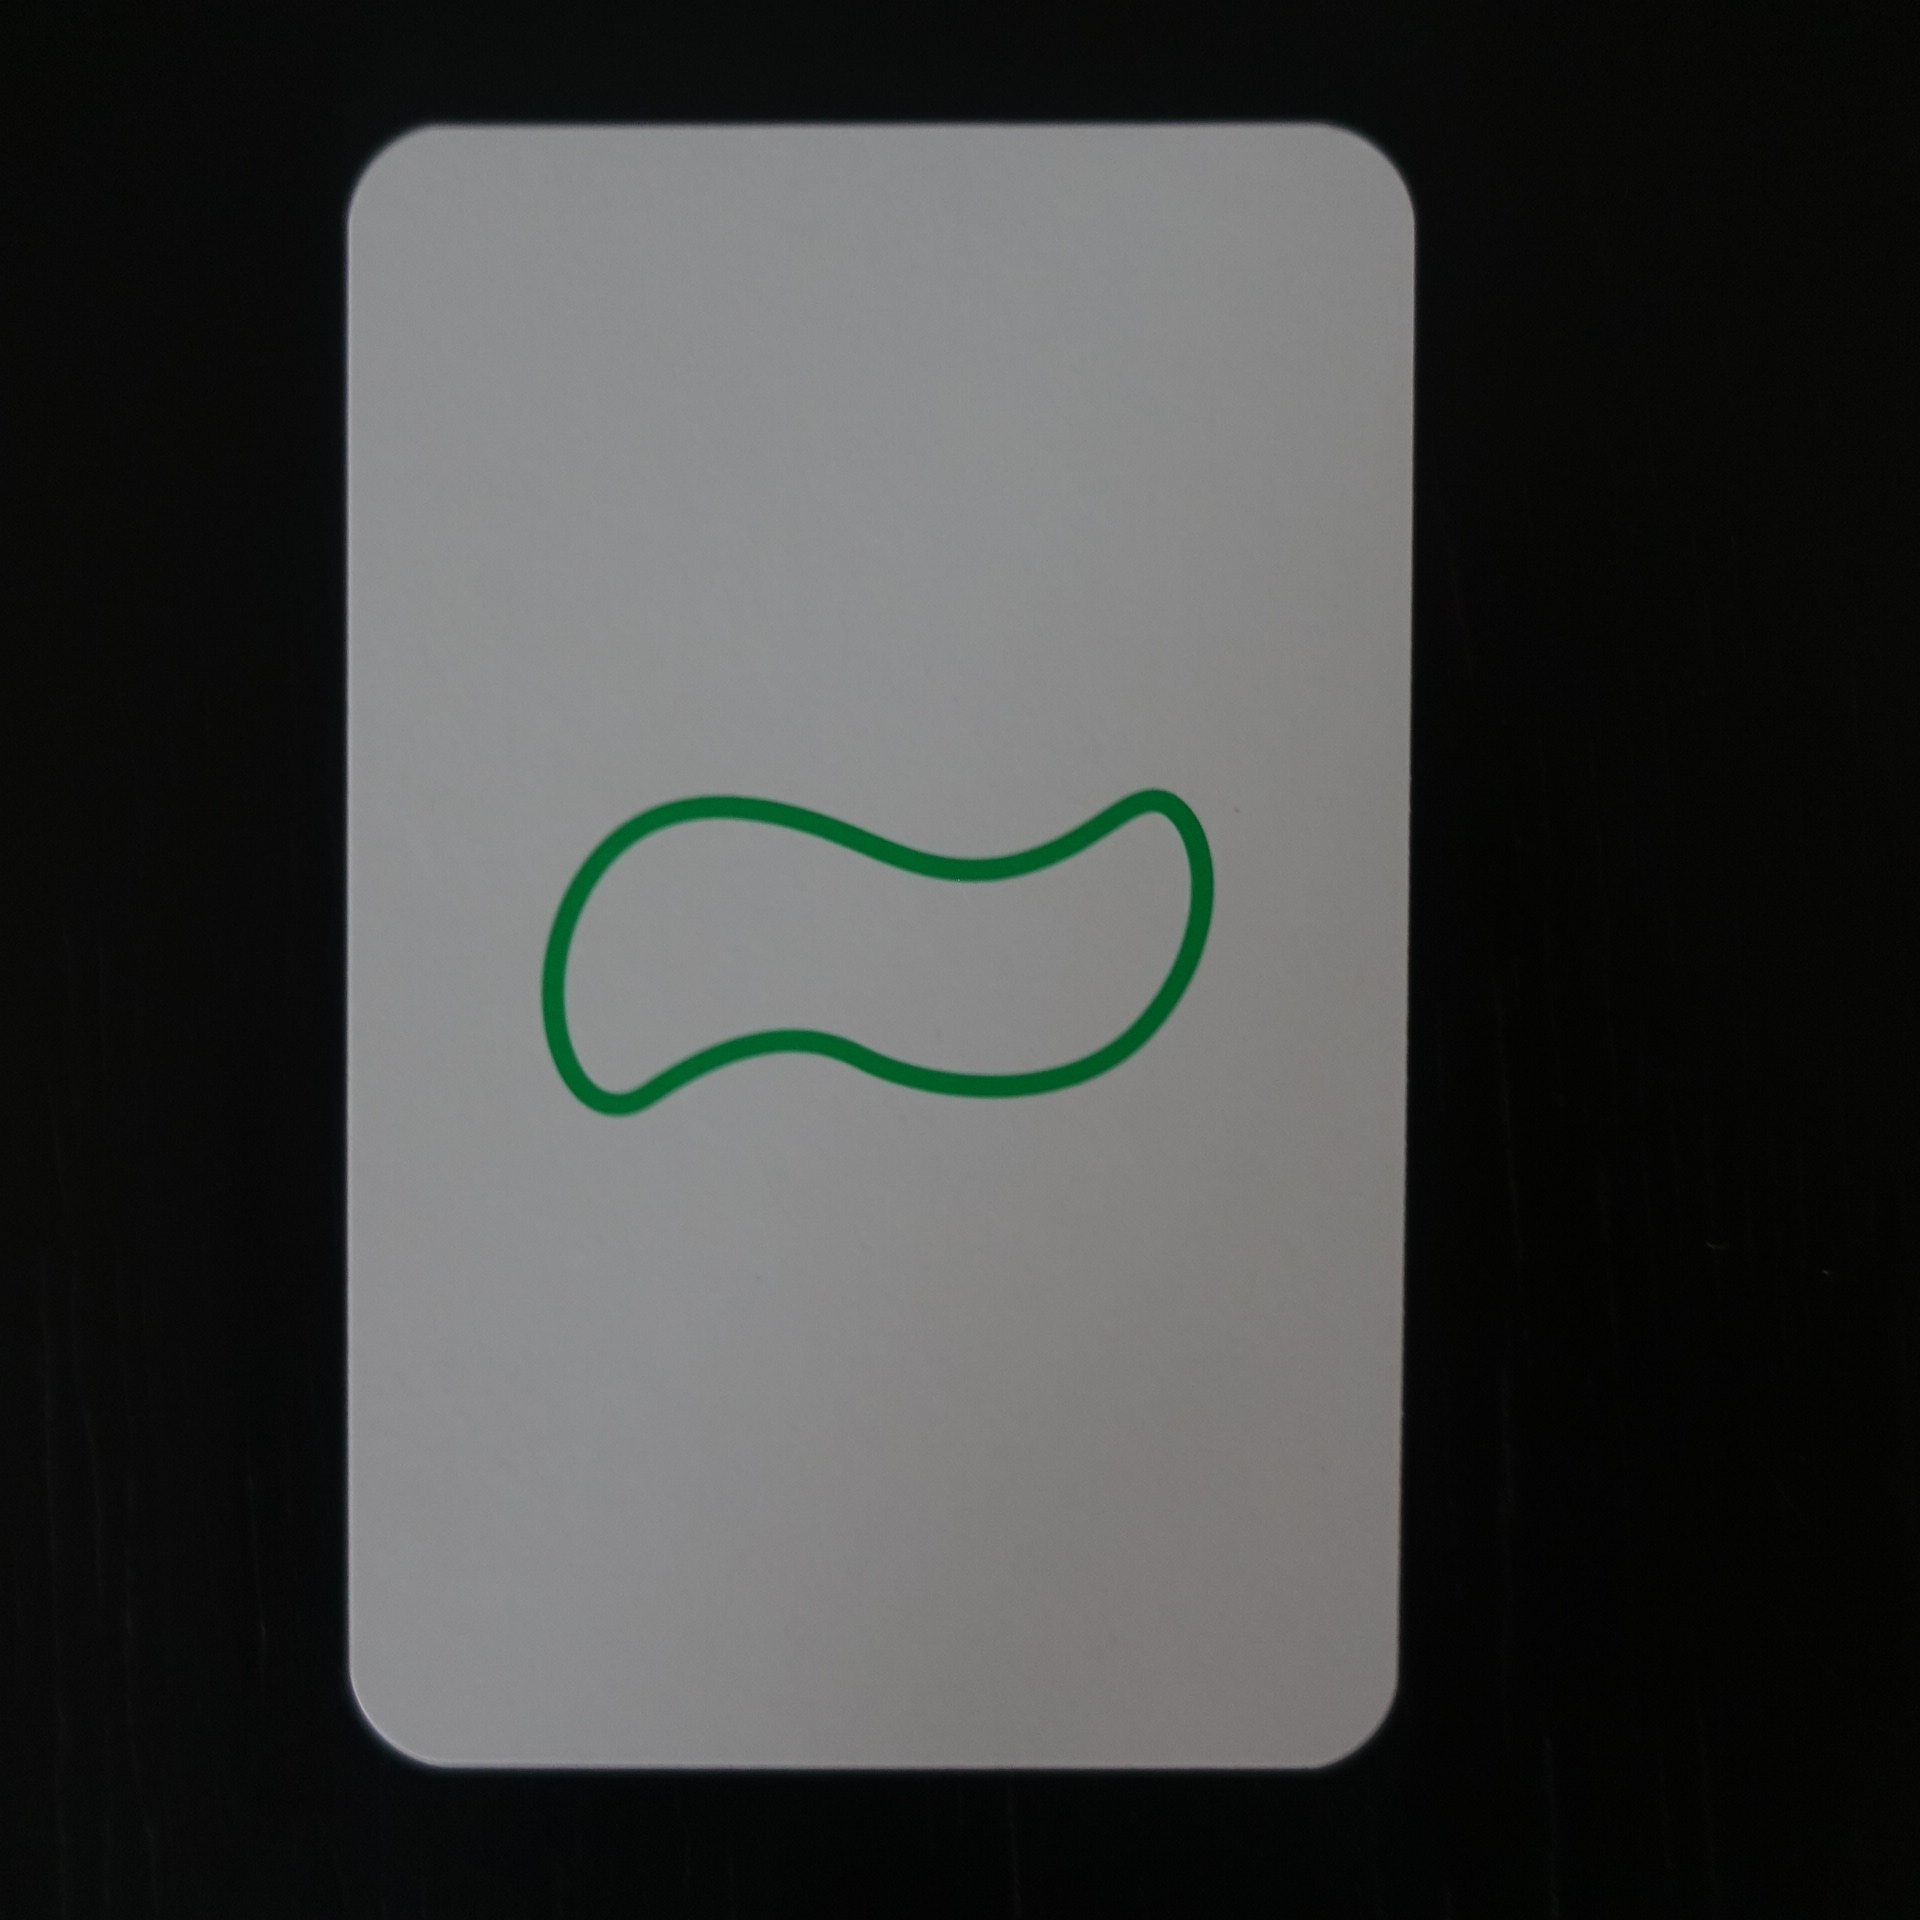c-2-f-d-r: (311, 97, 1435, 1792)
